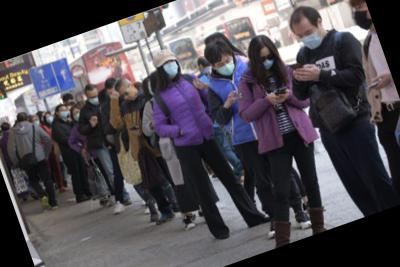with_mask: (295, 24, 326, 54), (350, 0, 375, 33), (214, 55, 238, 78), (256, 50, 279, 73), (163, 58, 182, 79), (87, 93, 101, 107), (58, 107, 70, 120), (71, 110, 83, 122), (44, 113, 55, 125), (30, 117, 42, 128)
without_mask: (118, 87, 137, 104)
